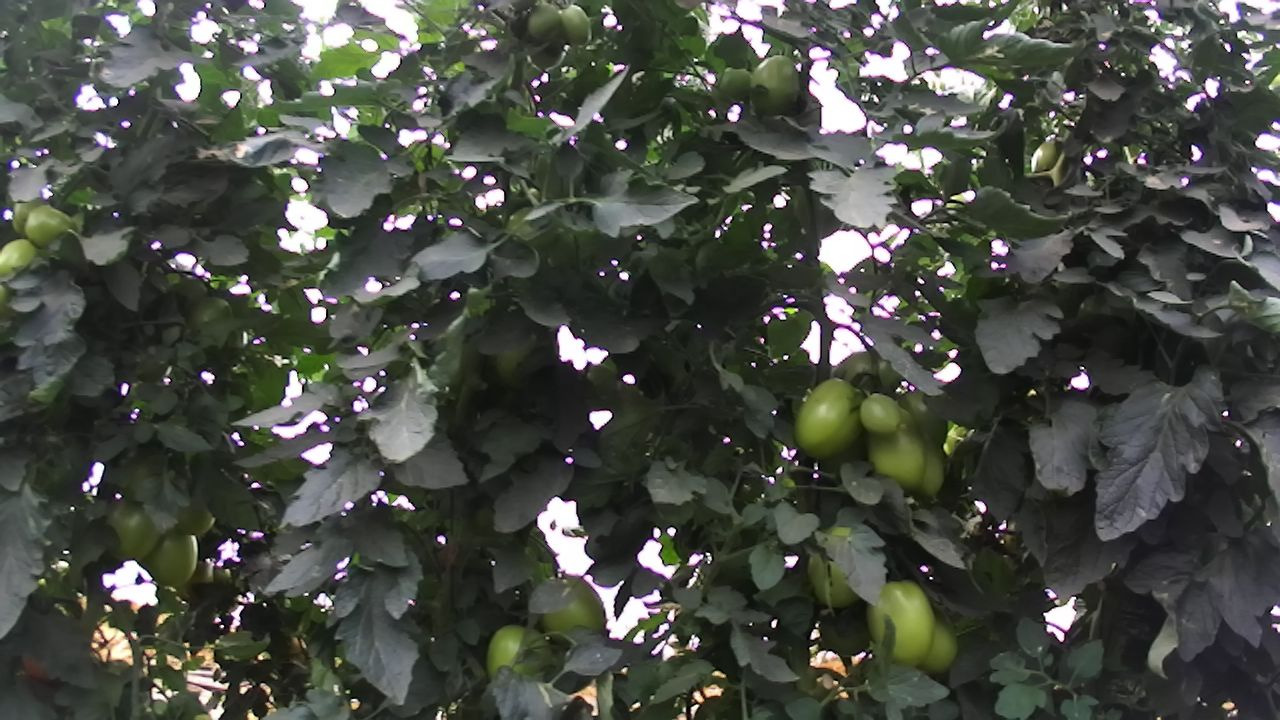tomato: (788, 373, 872, 459), (864, 573, 938, 670), (861, 403, 928, 494), (742, 49, 807, 124), (486, 622, 551, 693), (17, 199, 81, 247), (857, 386, 907, 438), (550, 1, 595, 47), (522, 0, 564, 44)
